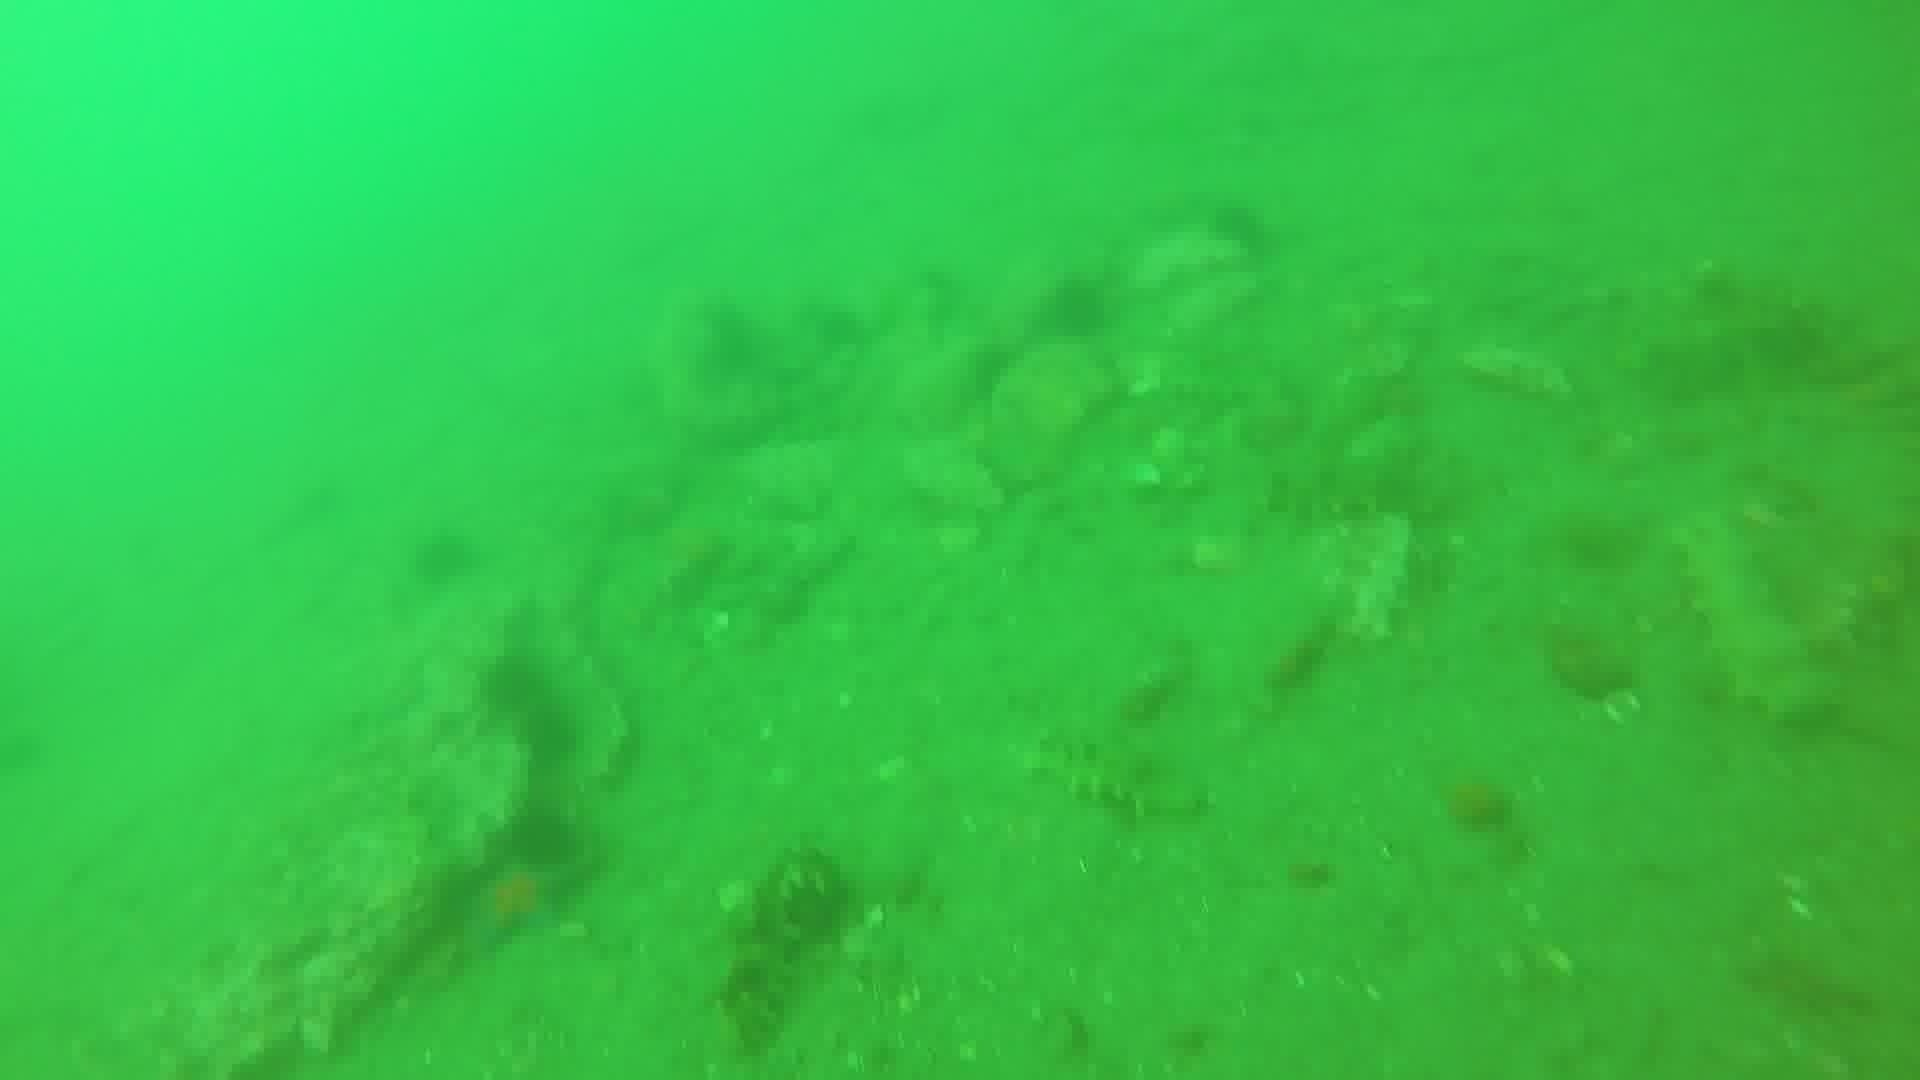echinus: (502, 800, 585, 874)
holothurian: (1673, 513, 1847, 731), (711, 844, 855, 1060), (1259, 443, 1468, 531), (1025, 727, 1211, 825)
starfish: (450, 851, 593, 961)
